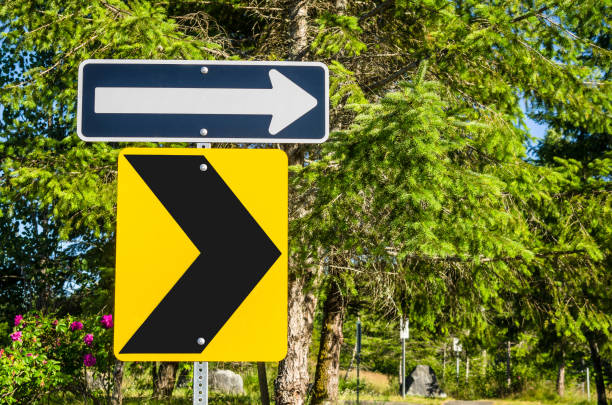right turn: (116, 149, 288, 363), (78, 58, 325, 141)
